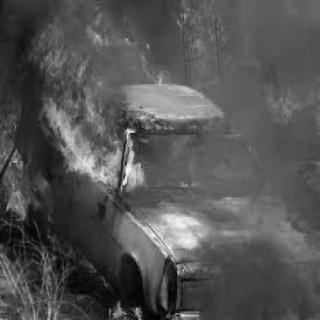Fire: (1, 1, 167, 219), (176, 6, 250, 78), (266, 76, 318, 140), (104, 294, 146, 314)
